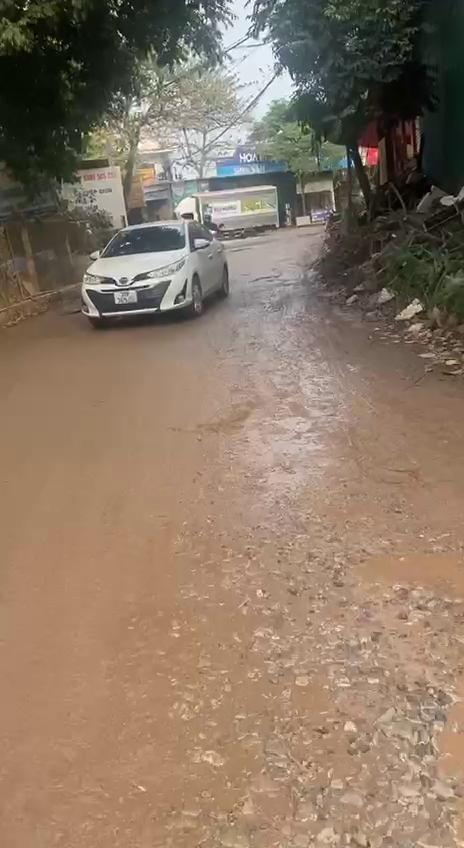pothole: (322, 536, 464, 848)
